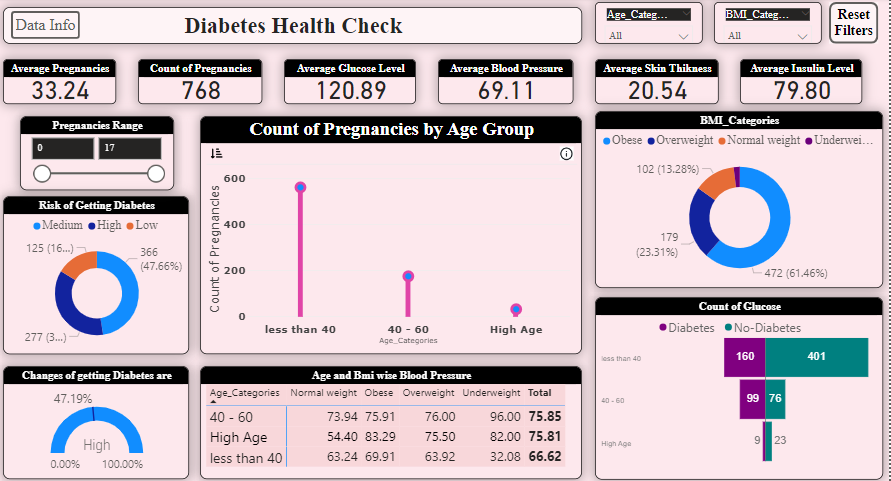

What the dashboard file says about the page in this screenshot:
{"tool":"powerbi","page":{"name":"Visuals","canvas":[1280,720],"ordinal":1},"visuals":[{"type":"card","title":"Average Skin Thikness","fields":{"Values":["Avg(diabetes.SkinThickness)"]},"box":[857.2,87.5,177.5,65],"z":0},{"type":"card","title":"Average Blood Pressure","fields":{"Values":["Avg(diabetes.BloodPressure)"]},"box":[630.8,87.5,195,65],"z":1000},{"type":"card","title":"Count of Pregnancies","fields":{"Values":["CountNonNull(diabetes.Pregnancies)"]},"box":[199,87.5,178.8,65],"z":2000},{"type":"card","title":"Average Glucose Level","fields":{"Values":["Avg(diabetes.Glucose)"]},"box":[409.2,87.5,190,65],"z":3000},{"type":"card","title":"Average Insulin Level","fields":{"Values":["Avg(diabetes.Insulin)"]},"box":[1066.2,87.5,176.2,65],"z":4000},{"type":"card","title":"Average Pregnancies","fields":{"Values":["Avg(diabetes.Age)"]},"box":[5,87.5,162.5,65],"z":5000},{"type":"lollipopcolumnB06D82DDC69D27E084F5921C81B988BD","title":"Count of Pregnancies by Age Group","fields":{"col_0":["diabetes.Age_Categories"],"col_1":["CountNonNull(diabetes.Pregnancies)"]},"box":[288,169.9,550.1,342.7],"z":6000},{"type":"slicer","fields":{"Values":["diabetes.Age_Categories"]},"box":[857,6,155,60],"z":7000},{"type":"TornadoChart1452517688218","title":"Count of Glucose","fields":{"Values":["CountNonNull(diabetes.Glucose)"],"Series":["diabetes.NewColumn"],"Category":["diabetes.Age_Categories"]},"box":[856.7,430,415,263.3],"z":8000},{"type":"slicer","fields":{"Values":["diabetes.BMI_Category"]},"box":[1028,6,155,60],"z":9000},{"type":"donutChart","title":"Risk of Getting Diabetes","fields":{"Category":["diabetes.Diabetes_Risk"],"Y":["CountNonNull(diabetes.Diabetes_Risk)"]},"box":[5,285,268.3,228.3],"z":10000},{"type":"slicer","title":"Pregnancies Range","fields":{"Values":["diabetes.Pregnancies"]},"box":[28.3,170,221.7,106.7],"z":11000},{"type":"donutChart","title":"BMI_Categories","fields":{"Category":["diabetes.BMI_Category"],"Y":["CountNonNull(diabetes.BMI_Category)"]},"box":[856.7,163.3,415,255],"z":12000},{"type":"gauge","title":"Changes of getting Diabetes are","fields":{"Y":["Sum(diabetes.DiabetesPedigreeFunction)"],"TargetValue":["Avg(diabetes.DiabetesPedigreeFunction)1"]},"box":[5,530,268.3,163.3],"z":13000},{"type":"textbox","box":[5,12.5,833.8,52.5],"z":14000},{"type":"pivotTable","title":"Age and Bmi wise Blood Pressure","fields":{"Columns":["diabetes.BMI_Category"],"Rows":["diabetes.Age_Categories"],"Values":["Avg(diabetes.BloodPressure)"]},"box":[288,529.9,550.1,162.7],"z":15000},{"type":"actionButton","title":"Reset Filters","box":[1194,6,71,60],"z":16000},{"type":"actionButton","title":"Data Info","box":[15.8,18.7,99.4,40.3],"z":17000}]}

Visuals, with their boxes on the page's 1280x720 design canvas (x1, y1, x2, y2). These are canvas units, not pixel positions in the 891x481 screenshot, which may show the page scaled, cropped or inside an application window:
"Average Skin Thikness" card: [857,88,1035,152]
"Average Blood Pressure" card: [631,88,826,152]
"Count of Pregnancies" card: [199,88,378,152]
"Average Glucose Level" card: [409,88,599,152]
"Average Insulin Level" card: [1066,88,1242,152]
"Average Pregnancies" card: [5,88,168,152]
"Count of Pregnancies by Age Group" lollipopcolumnB06D82DDC69D27E084F5921C81B988BD: [288,170,838,513]
slicer - diabetes.Age_Categories: [857,6,1012,66]
"Count of Glucose" TornadoChart1452517688218: [857,430,1272,693]
slicer - diabetes.BMI_Category: [1028,6,1183,66]
"Risk of Getting Diabetes" donutChart: [5,285,273,513]
"Pregnancies Range" slicer: [28,170,250,277]
"BMI_Categories" donutChart: [857,163,1272,418]
"Changes of getting Diabetes are" gauge: [5,530,273,693]
textbox: [5,12,839,65]
"Age and Bmi wise Blood Pressure" pivotTable: [288,530,838,693]
"Reset Filters" actionButton: [1194,6,1265,66]
"Data Info" actionButton: [16,19,115,59]
